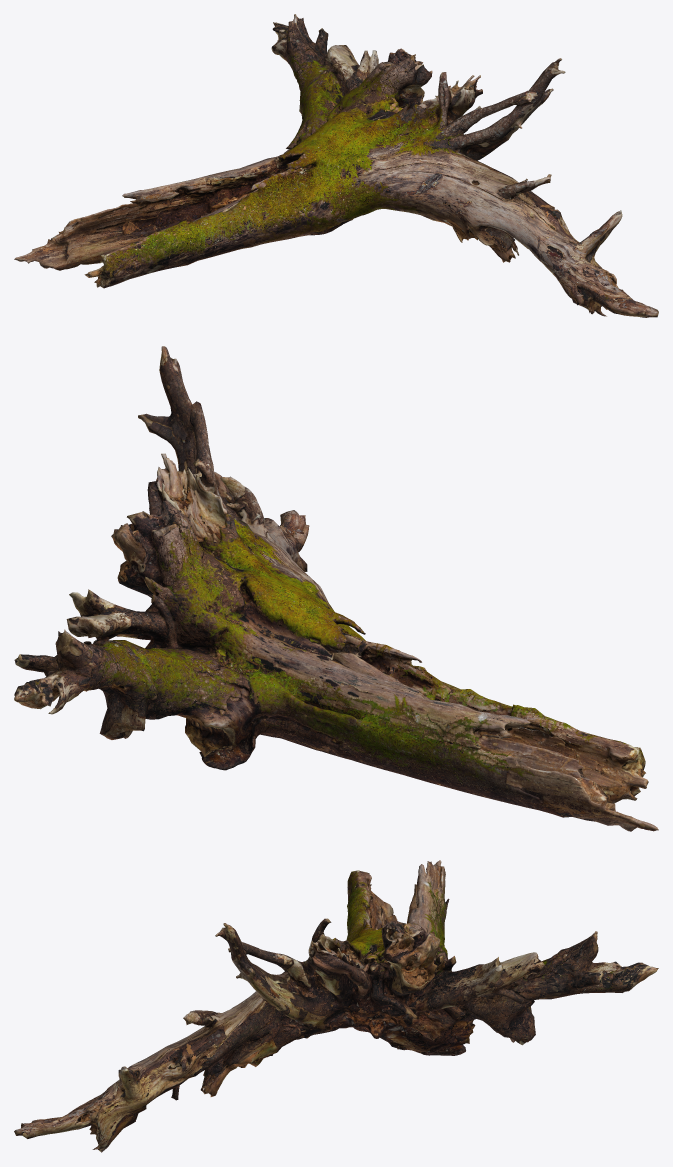
The model's file is Aset_wood_root_M_rkswd_LOD0.obj.
The picture shows the model from 3 angles, top to bottom: view 1: azimuth 30°, elevation 25°; view 2: azimuth 150°, elevation 25°; view 3: azimuth 270°, elevation 25°; orthographic projection. The views are drawn at different scales.
Parts seen in each view (by area): view 1: Aset_wood_root_M_rkswd_LOD0; view 2: Aset_wood_root_M_rkswd_LOD0; view 3: Aset_wood_root_M_rkswd_LOD0.
Part boxes in pixels (x1,y1,x2,y2): Aset_wood_root_M_rkswd_LOD0: (14,14,658,317); Aset_wood_root_M_rkswd_LOD0: (14,346,658,831); Aset_wood_root_M_rkswd_LOD0: (14,860,658,1152).
Size of the model in its own units: 0.88 by 0.3811 by 0.9517.
